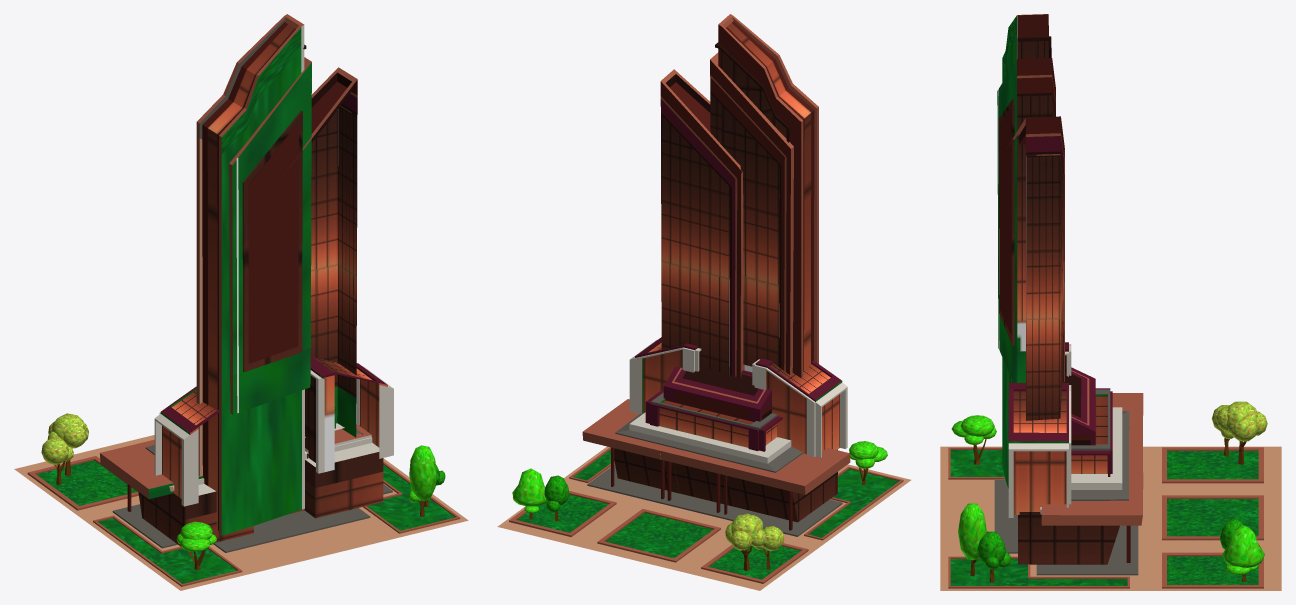
File: bank_LV2.fbx
3 renders of one model, left to right at view 1: azimuth 30°, elevation 25°; view 2: azimuth 150°, elevation 25°; view 3: azimuth 270°, elevation 25°, orthographic. The views are drawn at different scales.
Parts seen in each view (by area): view 1: bank 2; view 2: bank 2; view 3: bank 2.
Part boxes in pixels (x1,y1,x2,y2): bank 2: (14,14,468,590); bank 2: (497,14,910,590); bank 2: (940,14,1281,590).
Bounding box in the file's own units: 101 × 167 × 100.
